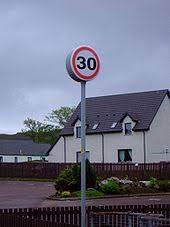Speed_limit_30km: (71, 45, 101, 80)
